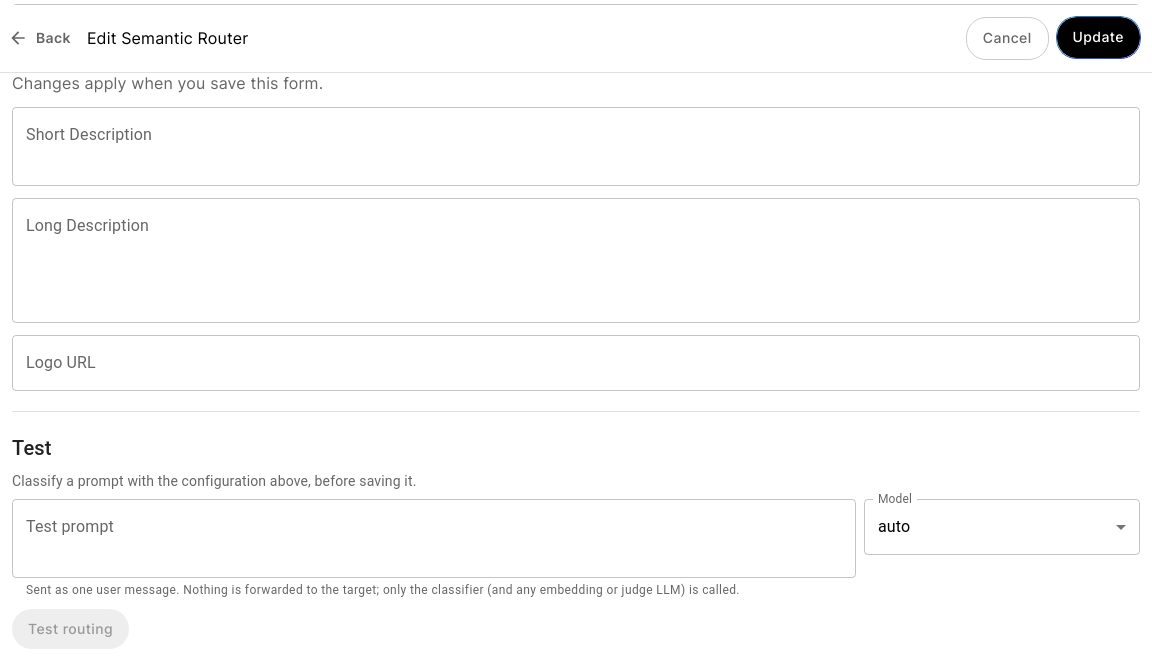
Scenario: SemanticRouterForm › tests the unsaved draft from the editor
(page scrolled)
Type "prove it" into the text box labelled "Test prompt" at (434, 538), box [26,515,842,561]
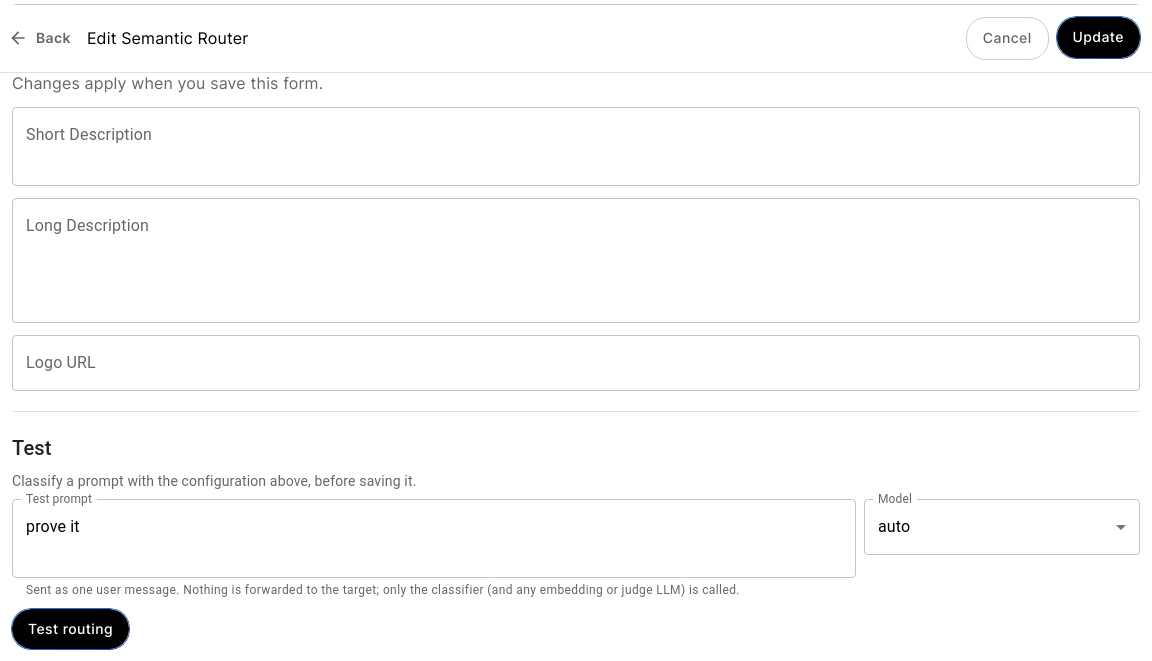
Click the button "Test routing" at (70, 629), box [12,609,129,649]
(page scrolled)
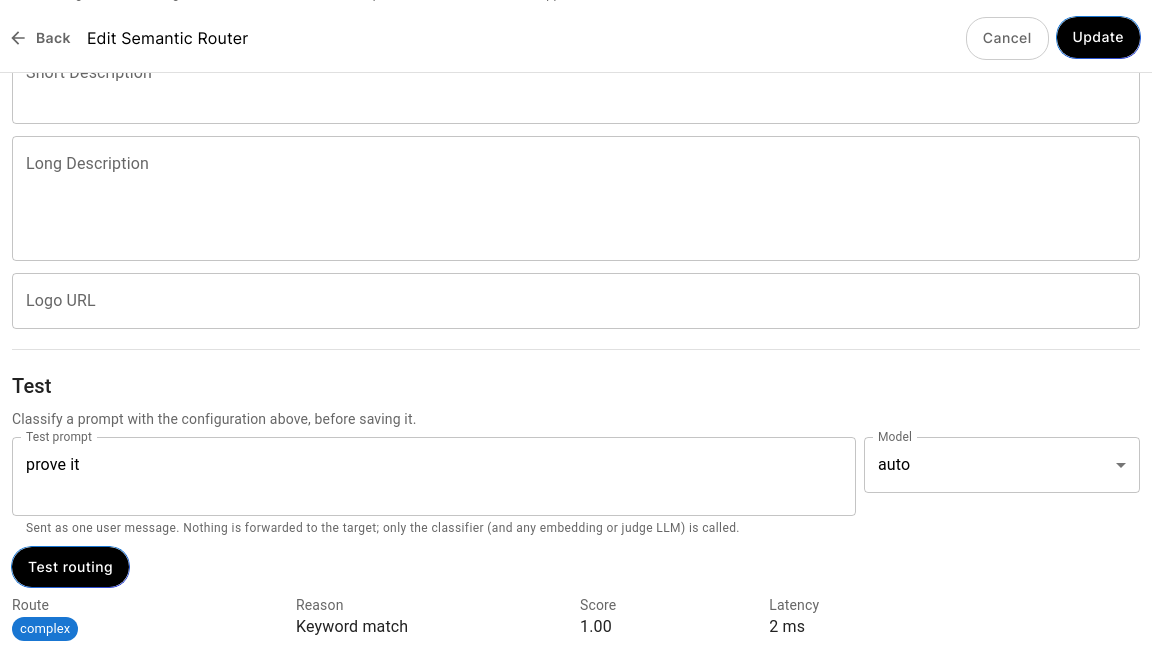
Expected: the element with test id "decision-route" reads "complex", [20,621,70,636]
